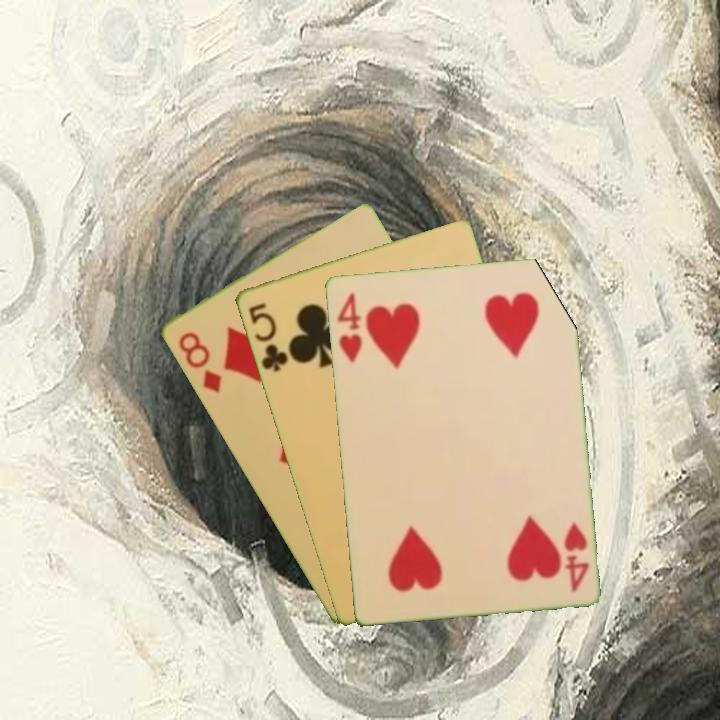4h: (333, 288, 365, 365), (560, 518, 592, 595)
5c: (244, 299, 291, 374)
8d: (174, 328, 224, 396)
